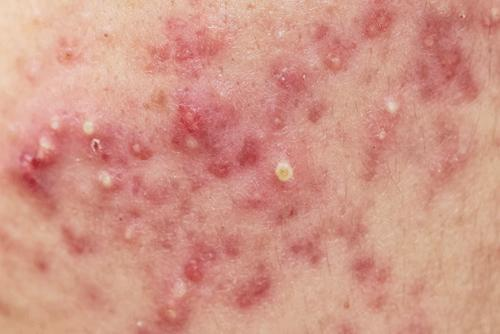acne_scars: (429, 44, 483, 91), (185, 239, 226, 285), (230, 136, 268, 179), (289, 239, 332, 272), (368, 7, 398, 50), (127, 169, 154, 210), (174, 38, 196, 70)
purulent: (267, 151, 308, 196), (95, 161, 122, 203), (75, 108, 101, 148), (379, 95, 408, 123), (370, 123, 399, 149)
sebo-crystan-conglo: (16, 115, 69, 199), (168, 108, 208, 174), (150, 275, 196, 331)
